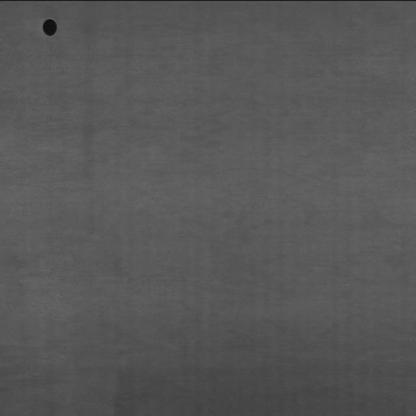punching_hole: (40, 15, 58, 38)
